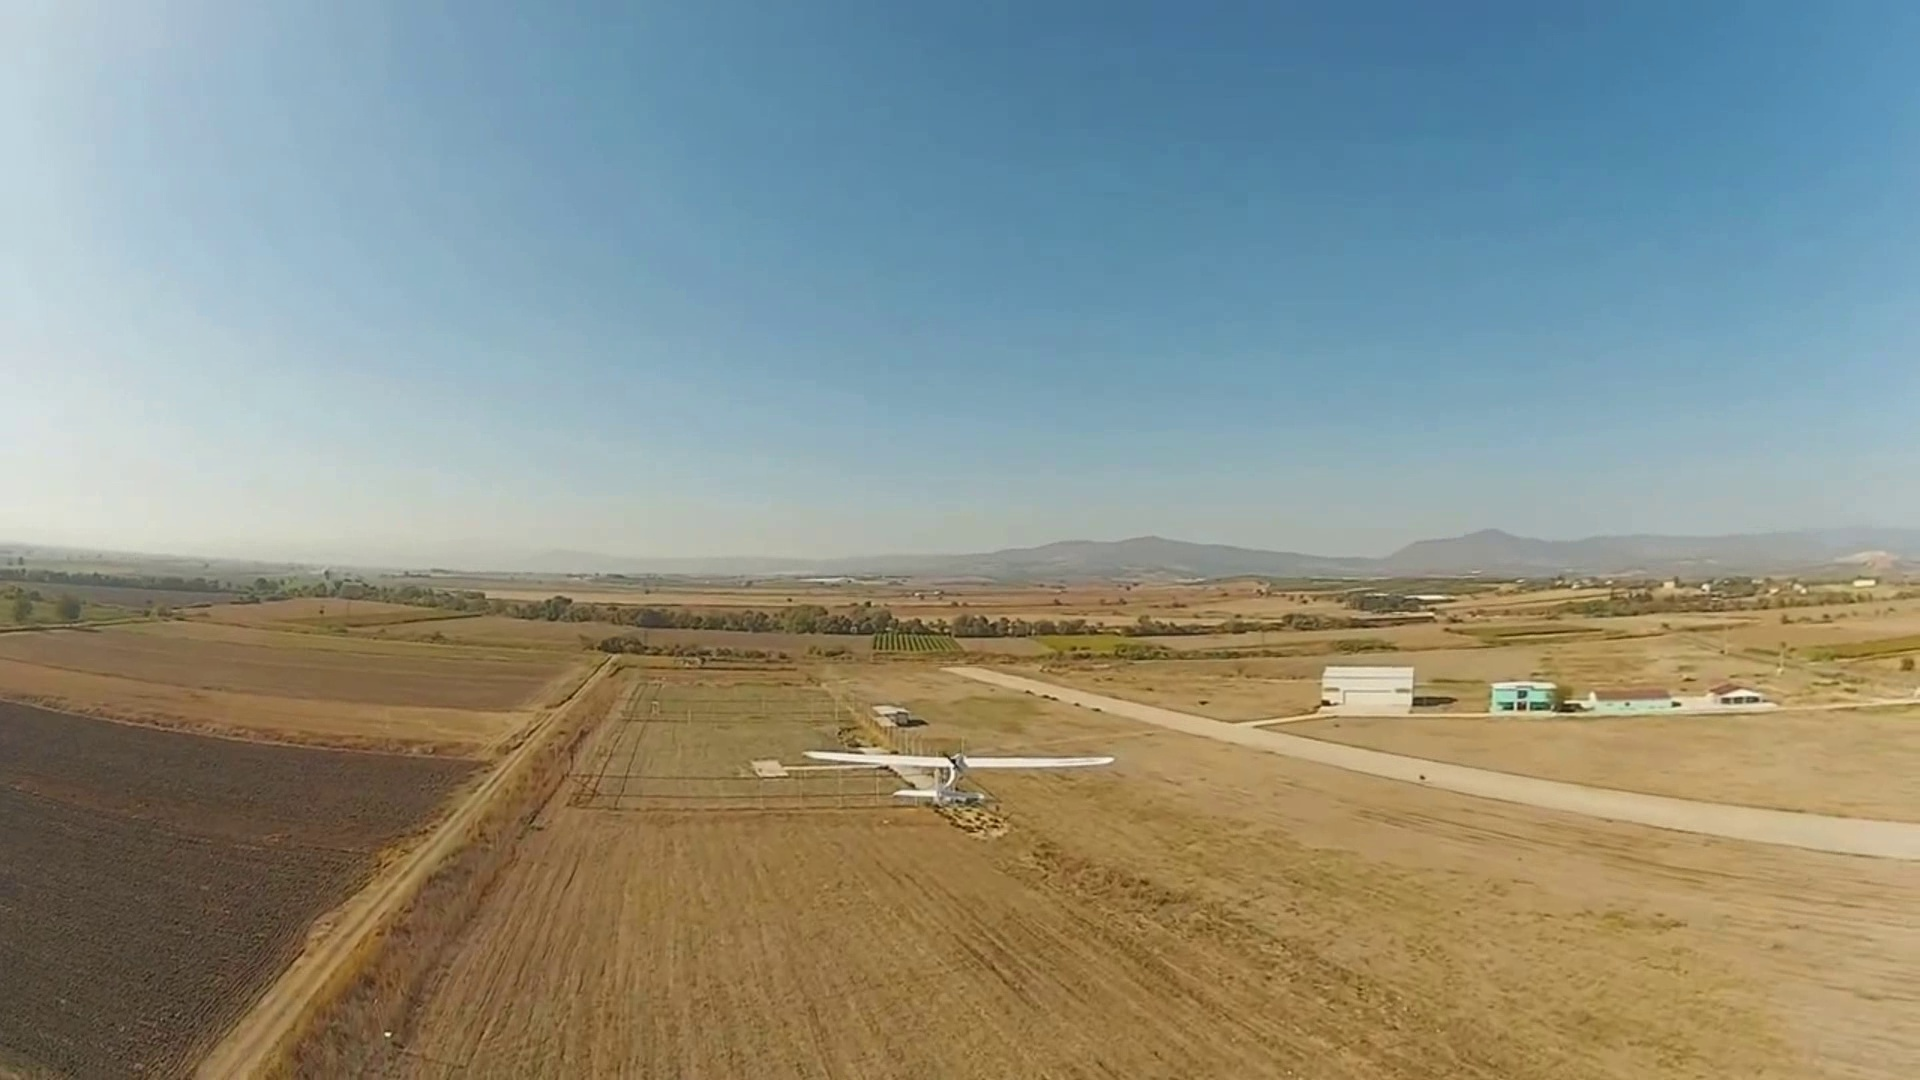airplane: (800, 707, 1122, 834)
